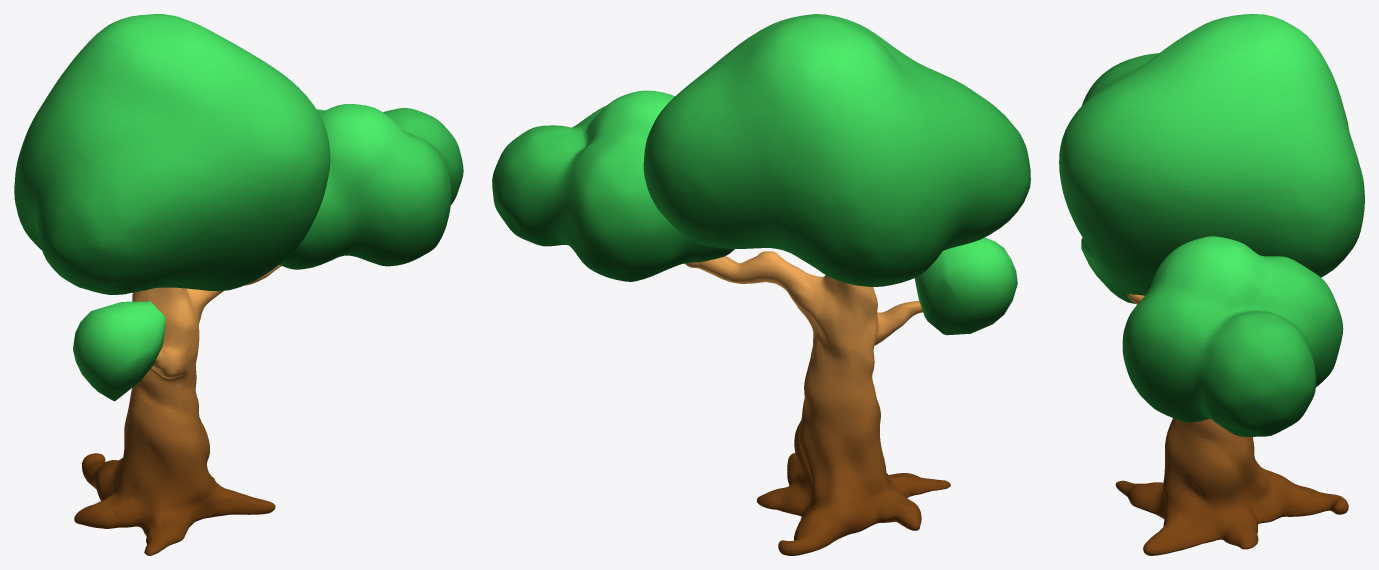
Rendered from Trunk1 B2G1.fbx.
The picture shows the model from 3 angles, left to right: view 1: azimuth 30°, elevation 25°; view 2: azimuth 150°, elevation 25°; view 3: azimuth 270°, elevation 25°; orthographic projection. The views are drawn at different scales.
Parts seen in each view (by area): view 1: Trunk1Leaves 3, Trunk1 B2, Trunk1 Leaves1, Trunk1 Leaves2; view 2: Trunk1Leaves 3, Trunk1 B2, Trunk1 Leaves1, Trunk1 Leaves2; view 3: Trunk1Leaves 3, Trunk1 Leaves1, Trunk1 B2, Trunk1 Leaves2.
Part boxes in pixels (<box>): Trunk1Leaves 3: <box>14,14,330,294</box>; Trunk1 B2: <box>74,265,281,555</box>; Trunk1 Leaves1: <box>279,104,463,269</box>; Trunk1 Leaves2: <box>73,301,165,401</box>; Trunk1Leaves 3: <box>643,14,1030,286</box>; Trunk1 B2: <box>685,251,950,555</box>; Trunk1 Leaves1: <box>492,90,734,281</box>; Trunk1 Leaves2: <box>914,237,1017,335</box>; Trunk1Leaves 3: <box>1059,14,1364,294</box>; Trunk1 Leaves1: <box>1122,236,1343,436</box>; Trunk1 B2: <box>1115,294,1348,555</box>; Trunk1 Leaves2: <box>1081,238,1145,303</box>.
Size of the model in its own units: 74.35 by 40.89 by 72.91.
